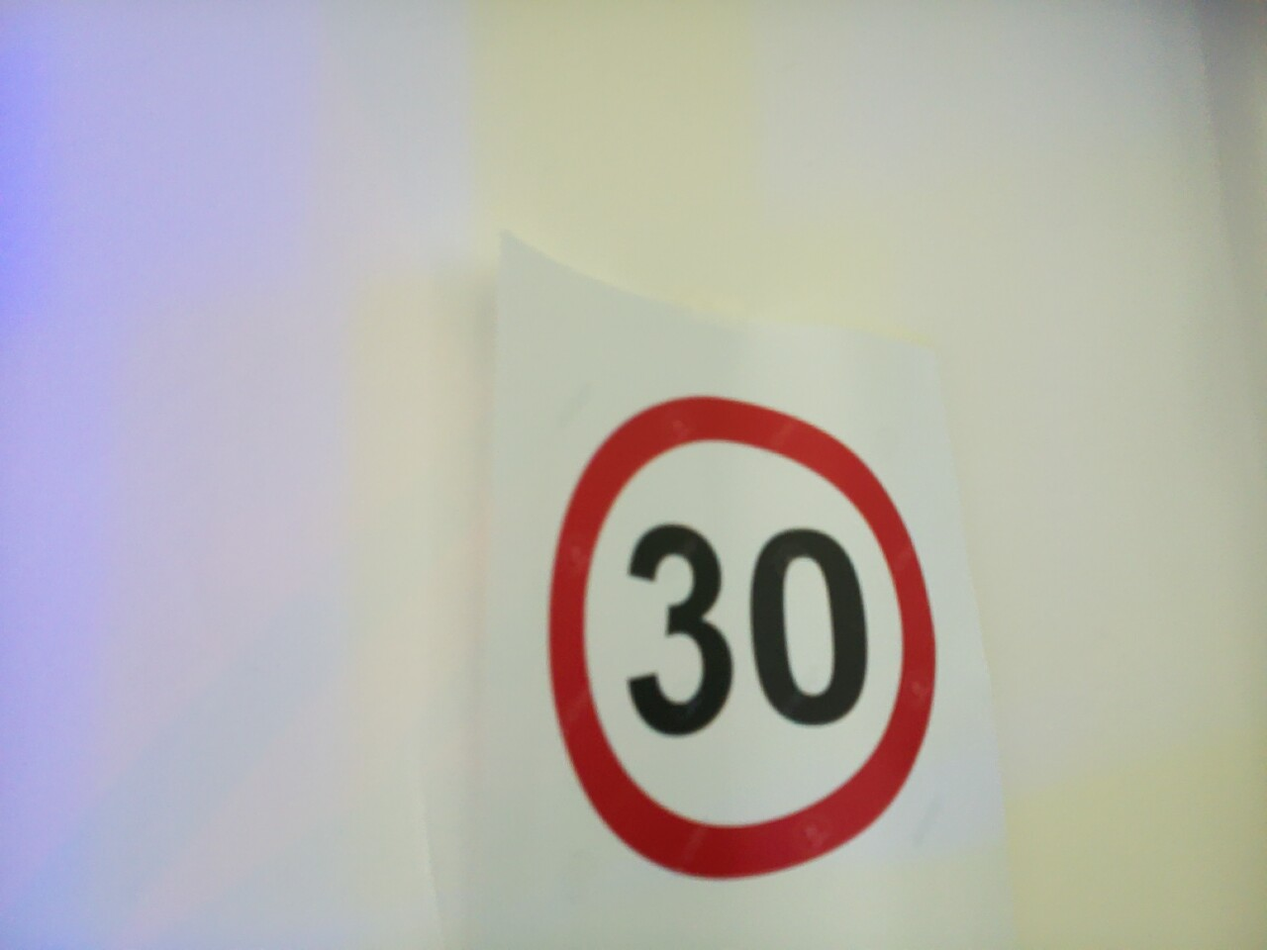speed_30: (743, 521, 874, 733)
